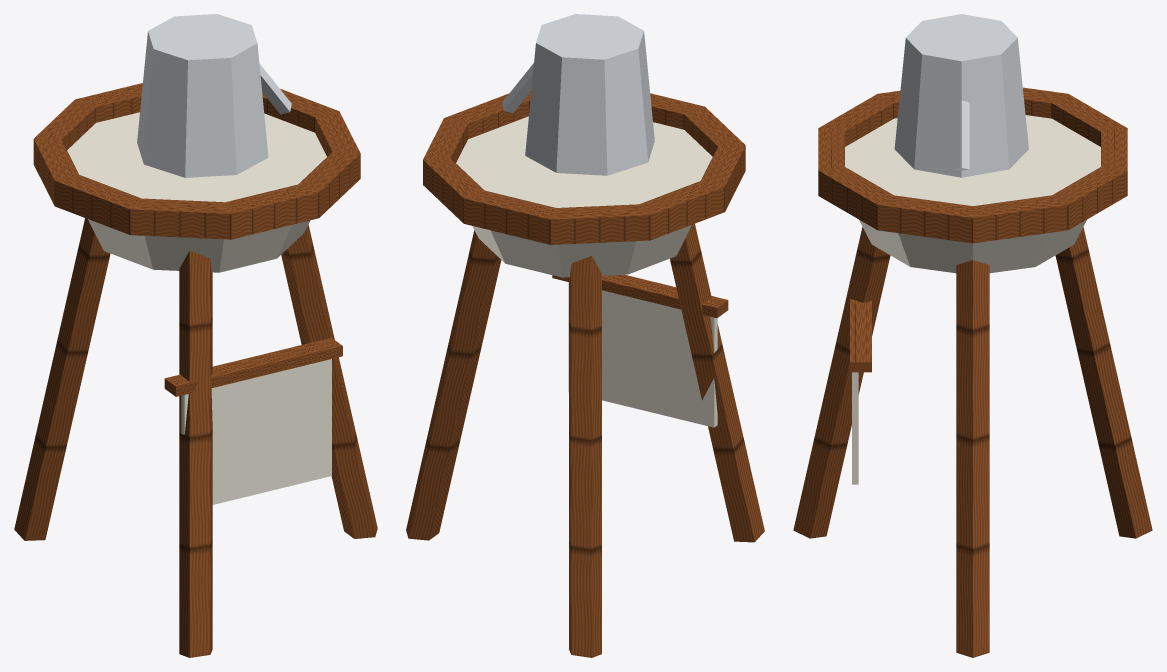
File: safari-camp-and-bush-lodge-canvas-wash-stand-f35a20f8__37671.glb
3 renders of one model, left to right at view 1: azimuth 30°, elevation 25°; view 2: azimuth 150°, elevation 25°; view 3: azimuth 270°, elevation 25°, orthographic.
Parts seen in each view (by area): view 1: canvas-wash-stand-timber, canvas-wash-stand-canvas, canvas-wash-stand-steel; view 2: canvas-wash-stand-timber, canvas-wash-stand-canvas, canvas-wash-stand-steel; view 3: canvas-wash-stand-timber, canvas-wash-stand-steel, canvas-wash-stand-canvas.
Boxes of the visible parts, x1,y1,x2,y2 form: canvas-wash-stand-timber: (14, 83, 377, 657); canvas-wash-stand-canvas: (67, 112, 331, 504); canvas-wash-stand-steel: (137, 14, 291, 177); canvas-wash-stand-timber: (406, 91, 764, 657); canvas-wash-stand-canvas: (456, 116, 717, 427); canvas-wash-stand-steel: (502, 14, 654, 175); canvas-wash-stand-timber: (793, 87, 1152, 657); canvas-wash-stand-steel: (894, 14, 1028, 177); canvas-wash-stand-canvas: (845, 115, 1100, 484).
Bounding box in the file's own units: 0.6581 × 1.06 × 0.6413.
Materials: 3 (1 with a texture image).
